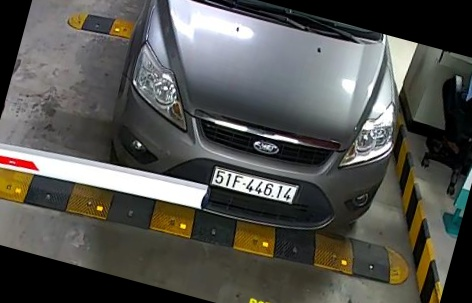plate: (204, 160, 301, 213)
